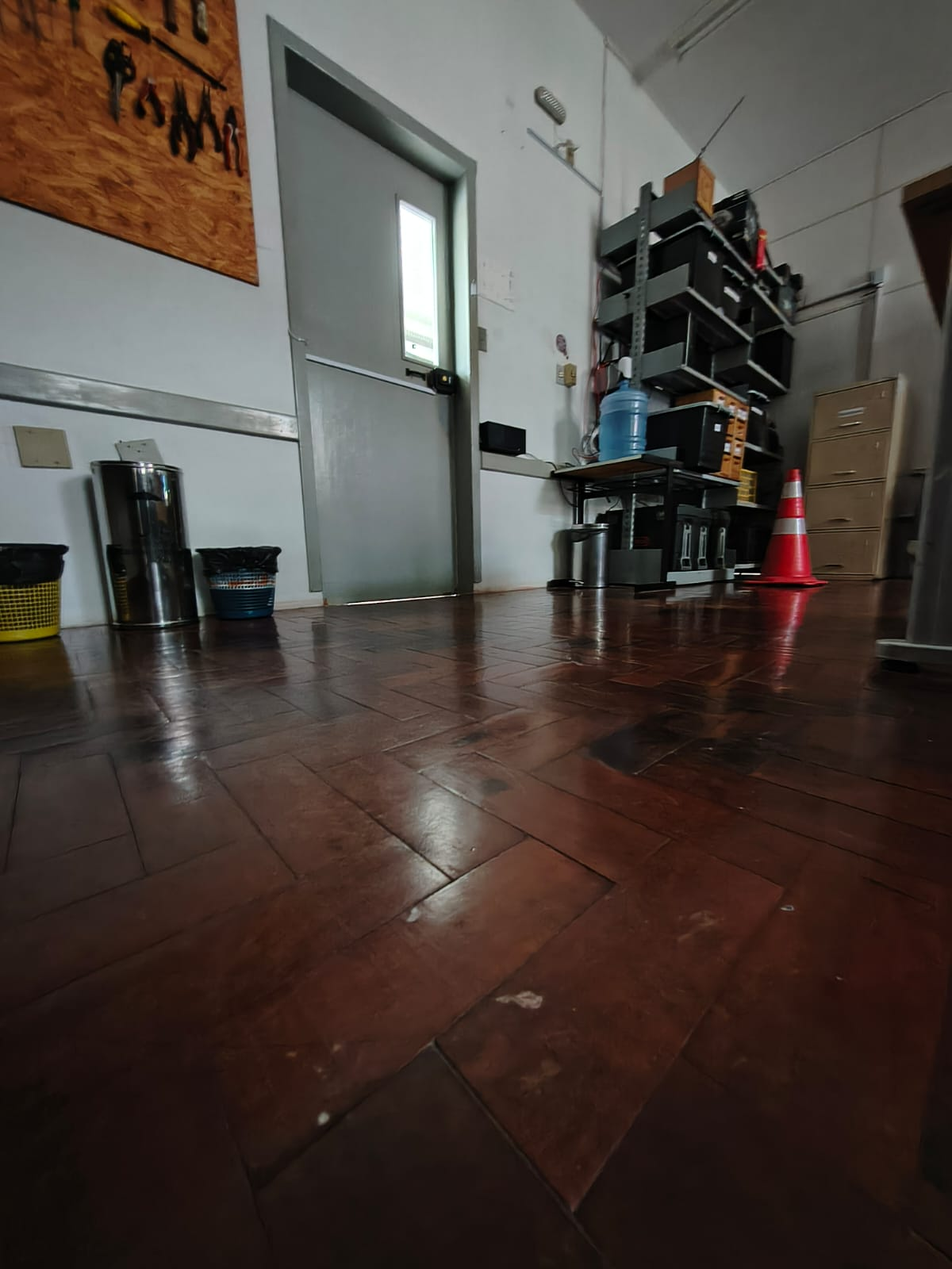cone: (759, 453, 821, 593)
